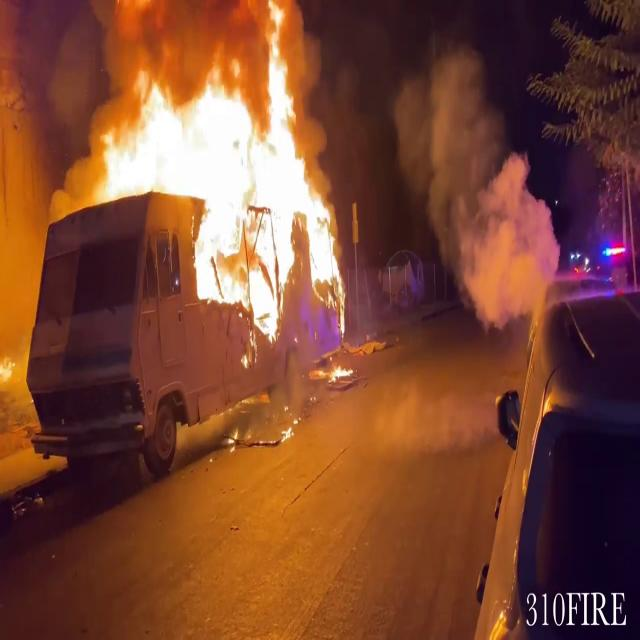Fire: (83, 1, 350, 327)
Smoke: (390, 36, 560, 334)
